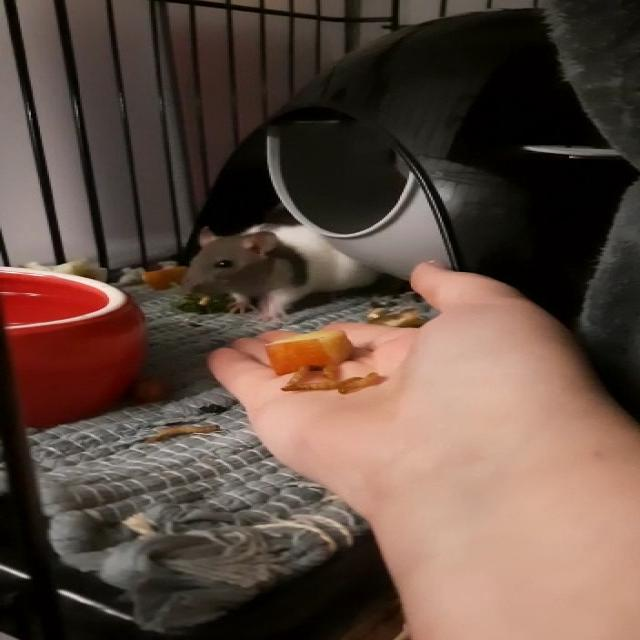rat: (180, 219, 386, 322)
